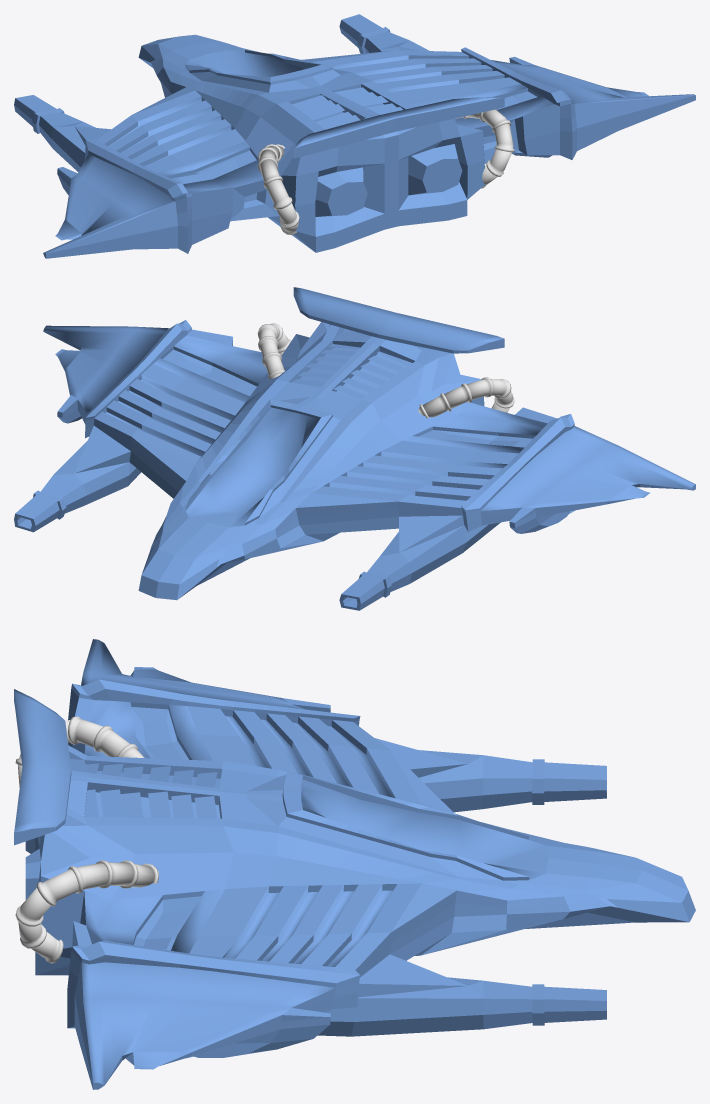
Rendered from player_ship.glb.
3 views of the same model, one above another, from view 1: azimuth 30°, elevation 25°; view 2: azimuth 150°, elevation 25°; view 3: azimuth 270°, elevation 25° (orthographic). The views are drawn at different scales.
Visible parts, largest first — view 1: Player_Ship, Cylinder, Cylinder.001; view 2: Player_Ship, Cylinder, Cylinder.001; view 3: Player_Ship, Cylinder.001, Cylinder.
Boxes of the visible parts, x1=… form: Player_Ship: x1=14, y1=14, x2=695, y2=258; Cylinder: x1=257, y1=144, x2=299, y2=234; Cylinder.001: x1=455, y1=109, x2=514, y2=188; Player_Ship: x1=14, y1=287, x2=695, y2=610; Cylinder: x1=418, y1=377, x2=514, y2=418; Cylinder.001: x1=257, y1=323, x2=290, y2=379; Player_Ship: x1=14, y1=639, x2=695, y2=1089; Cylinder.001: x1=15, y1=860, x2=158, y2=963; Cylinder: x1=15, y1=716, x2=144, y2=787.
Size of the model in its own units: 6.86 by 1.2 by 4.45.
